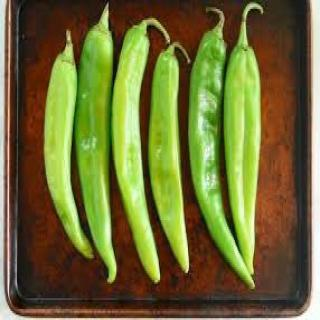Cabai Hijau: (184, 49, 260, 289), (77, 21, 119, 283), (109, 30, 151, 283), (153, 47, 195, 277), (45, 51, 79, 259)
